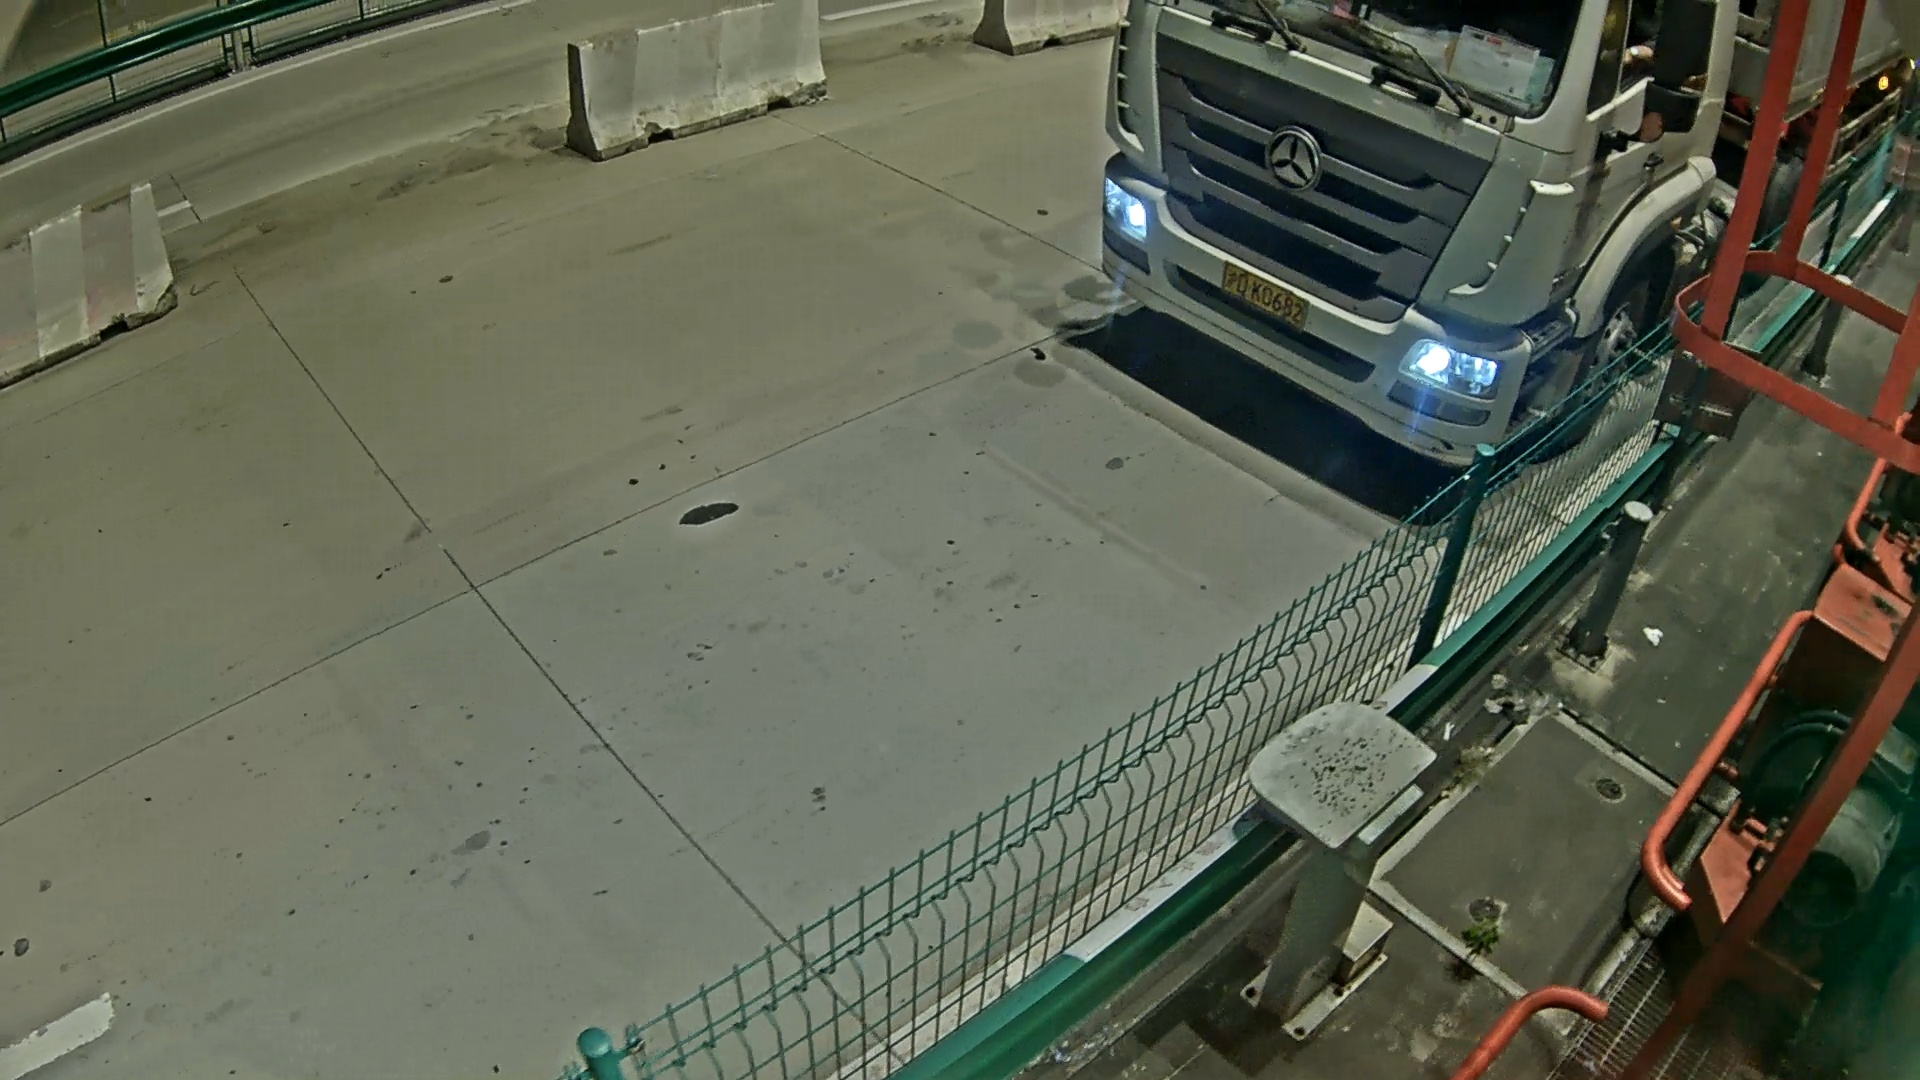head: (1109, 9, 1651, 492)
plate: (1214, 258, 1327, 333)
